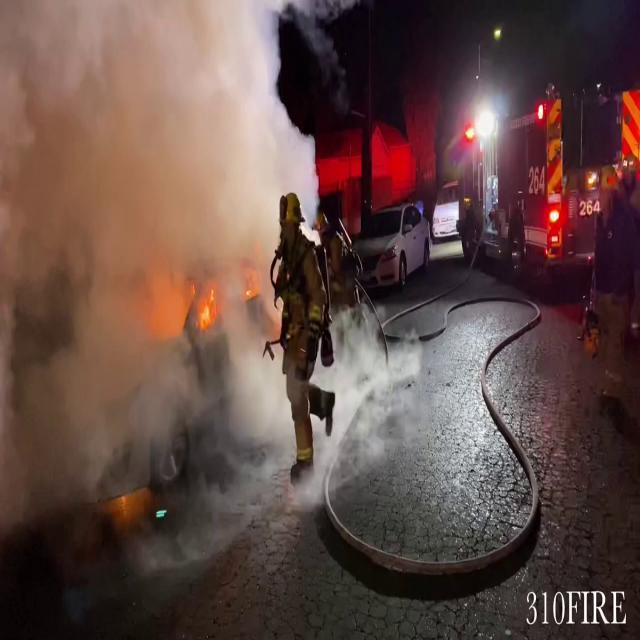Smoke: (1, 1, 296, 570)
